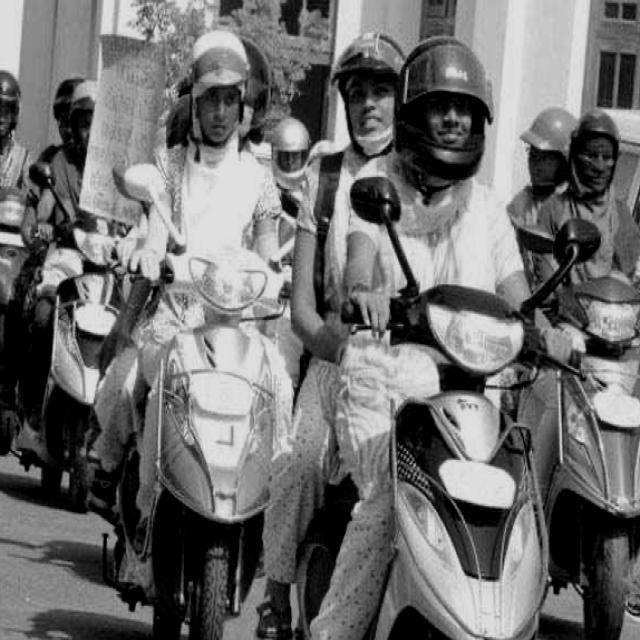Helmet: (392, 29, 498, 188), (188, 29, 254, 144), (565, 101, 628, 201), (522, 106, 581, 190), (268, 106, 314, 192), (0, 66, 24, 138)
